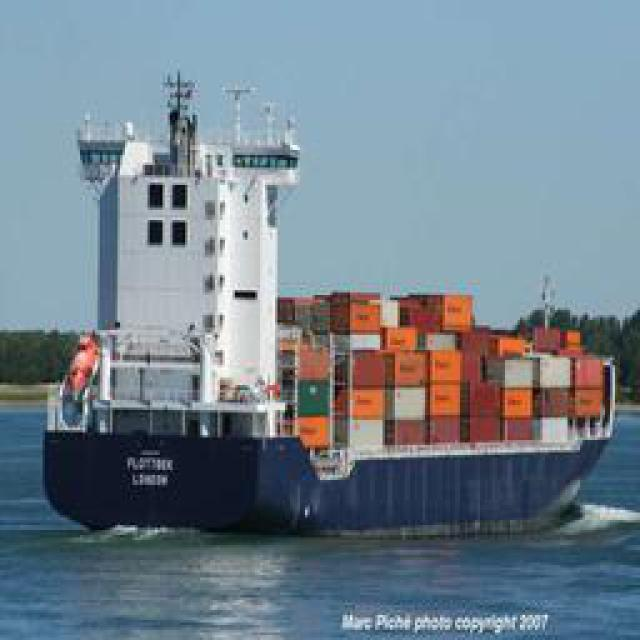Ship: (29, 271, 622, 544)
